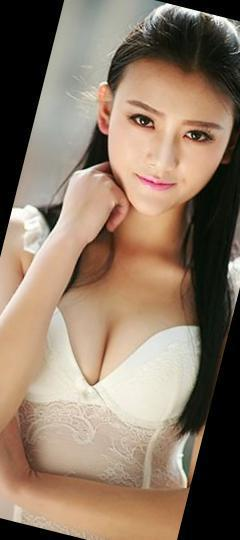Sober: (113, 67, 225, 210)
